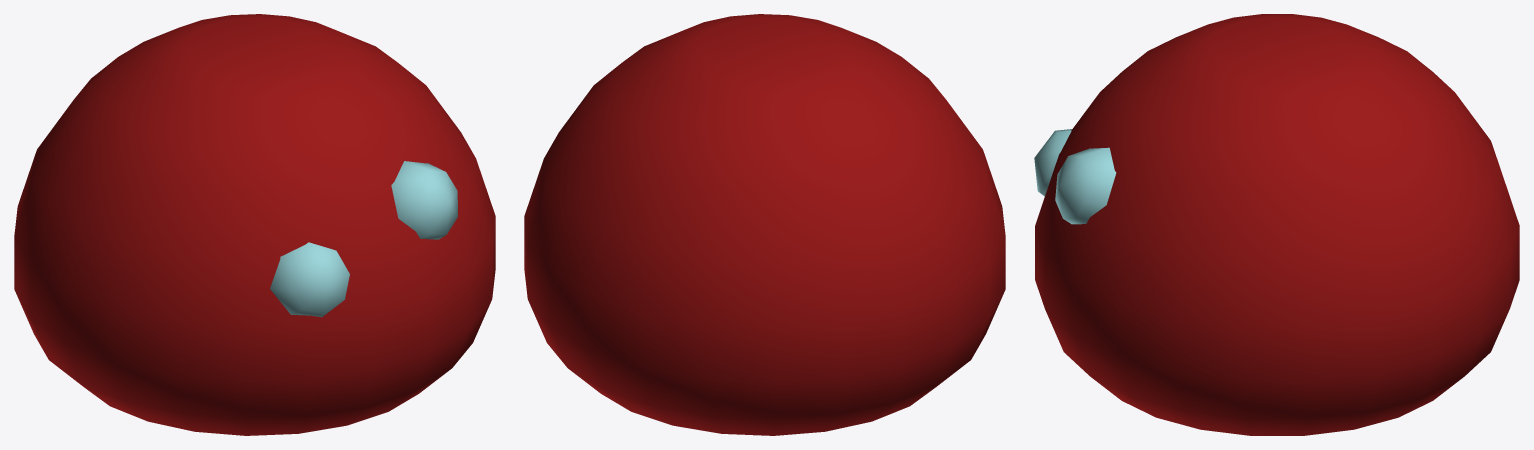
Rendered from Slime.FBX.
3 renders of one model, left to right at view 1: azimuth 30°, elevation 25°; view 2: azimuth 150°, elevation 25°; view 3: azimuth 270°, elevation 25°, orthographic.
Visible parts, largest first — view 1: Sphere001, Sphere003, Sphere004; view 2: Sphere001; view 3: Sphere001, Sphere004, Sphere003.
Boxes of the visible parts, x1,y1,x2,y2 form: Sphere001: (14,14,495,435); Sphere003: (270,242,349,317); Sphere004: (391,161,457,239); Sphere001: (524,14,1005,435); Sphere001: (1035,14,1519,435); Sphere004: (1055,147,1116,224); Sphere003: (1034,129,1072,196).
Size of the model in its own units: 23.51 by 18.44 by 23.8.
